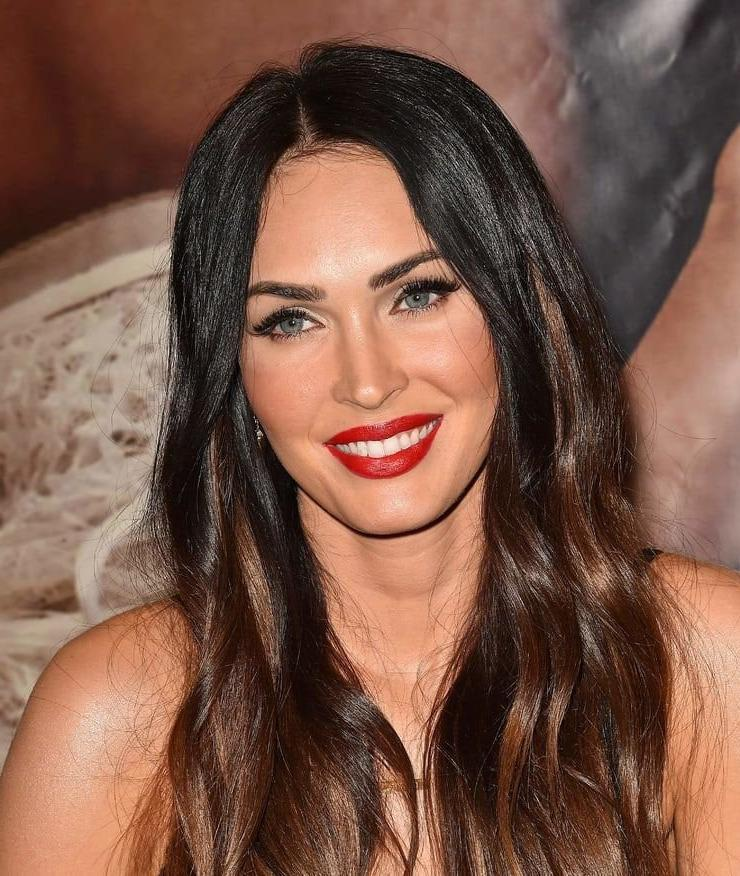Sober: (231, 164, 488, 516)
